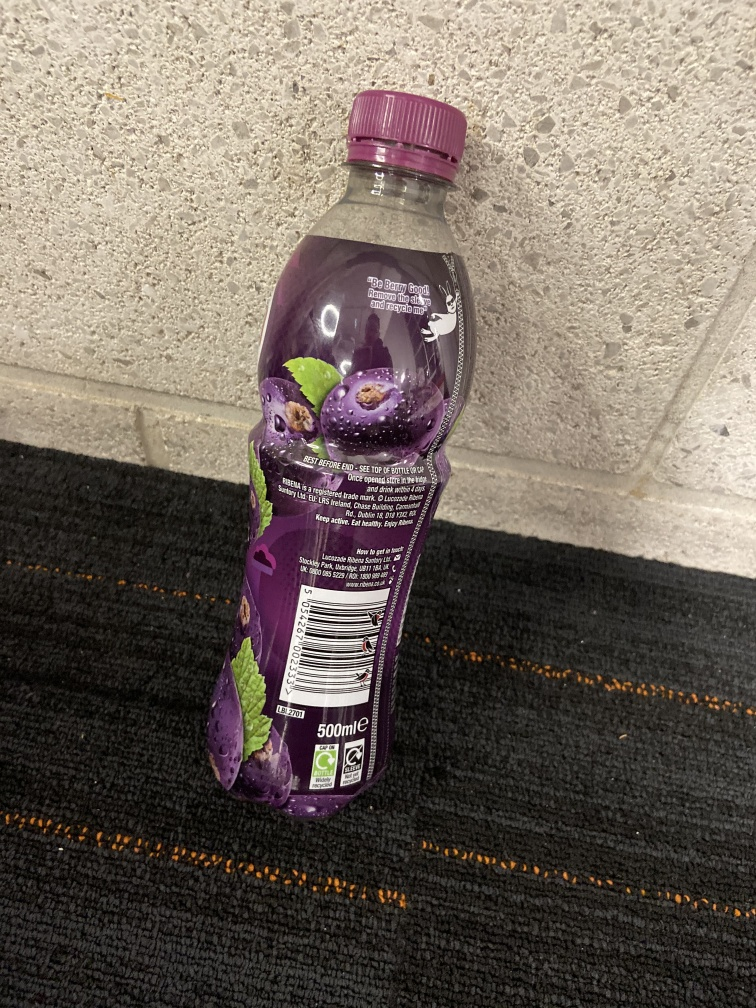bottle_purple: (192, 83, 483, 825)
